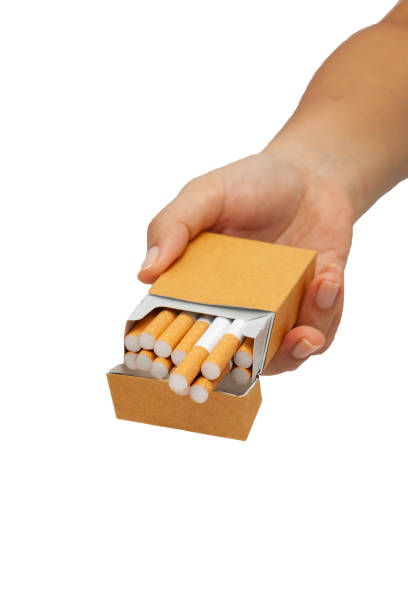cigarette: (106, 229, 315, 443), (170, 314, 231, 396), (199, 318, 245, 382), (187, 359, 234, 406), (171, 313, 213, 365), (152, 309, 195, 359), (139, 308, 175, 351), (123, 311, 156, 351), (234, 339, 252, 369), (135, 350, 155, 372), (150, 357, 170, 379), (123, 351, 137, 372)
